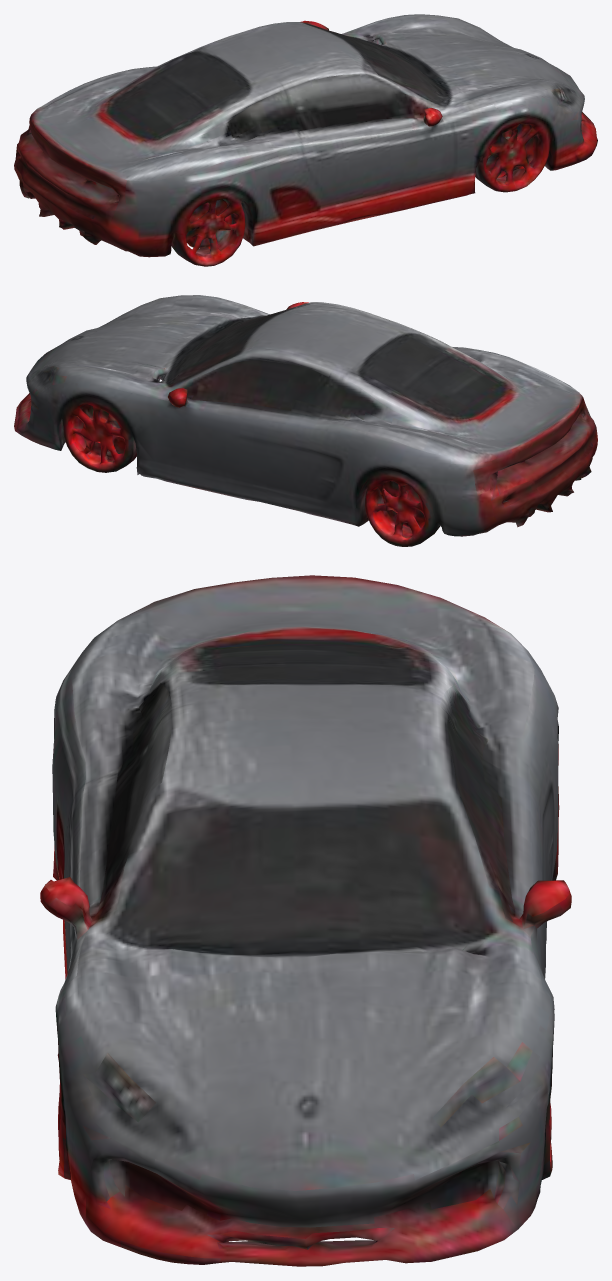
The model's file is dk-meshy-lamborghini-lite.glb.
3 views of the same model, one above another, from view 1: azimuth 30°, elevation 25°; view 2: azimuth 150°, elevation 25°; view 3: azimuth 270°, elevation 25° (orthographic). The views are drawn at different scales.
Bounding box in the file's own units: 2 × 0.5059 × 0.862.
Materials: 1 (1 with a texture image).
